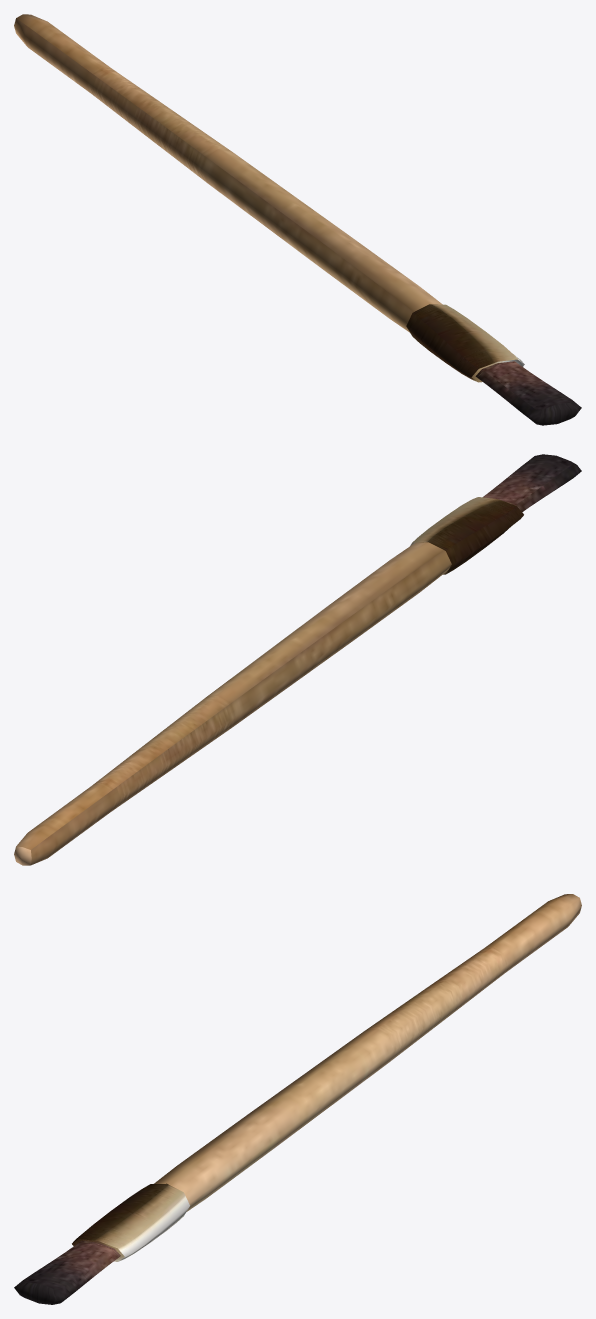
Rendered from brushSimple.fbx.
3 renders of one model, top to bottom at view 1: azimuth 30°, elevation 25°; view 2: azimuth 150°, elevation 25°; view 3: azimuth 330°, elevation 25°, orthographic.
Parts seen in each view (by area): view 1: brush; view 2: brush; view 3: brush.
Boxes of the visible parts, x1,y1,x2,y2 form: brush: (14,14,581,425); brush: (14,454,581,865); brush: (14,894,581,1304).
Bounding box in the file's own units: 23.32 × 13.98 × 377.
Materials: 1 (1 with a texture image).
